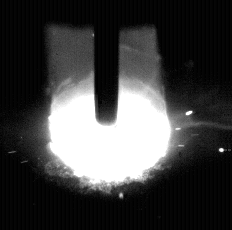arame: (95, 0, 120, 126)
poca: (48, 0, 172, 230)
